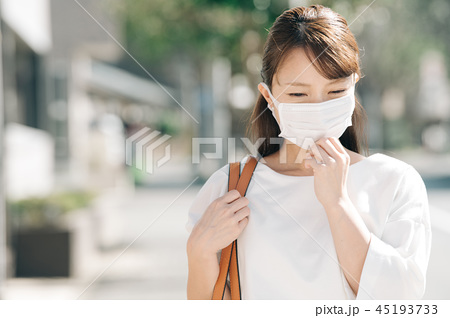mask: (277, 97, 364, 152)
